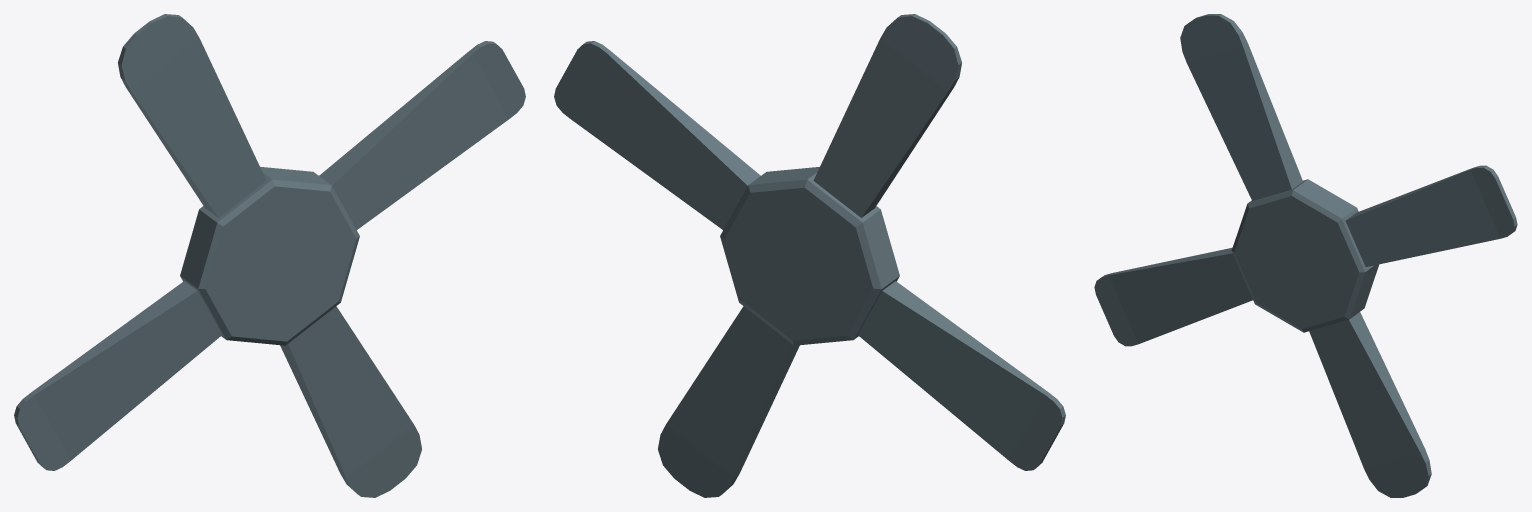
Rendered from heliceDirigible.obj.
3 renders of one model, left to right at view 1: azimuth 30°, elevation 25°; view 2: azimuth 150°, elevation 25°; view 3: azimuth 330°, elevation 25°, orthographic. The views are drawn at different scales.
Parts seen in each view (by area): view 1: Cylinder_009; view 2: Cylinder_009; view 3: Cylinder_009.
Boxes of the visible parts, <box> form: Cylinder_009: <box>14,14,525,497</box>; Cylinder_009: <box>554,14,1065,497</box>; Cylinder_009: <box>1094,14,1517,497</box>.
Bounding box in the file's own units: 1.22 × 1.22 × 0.0922.
